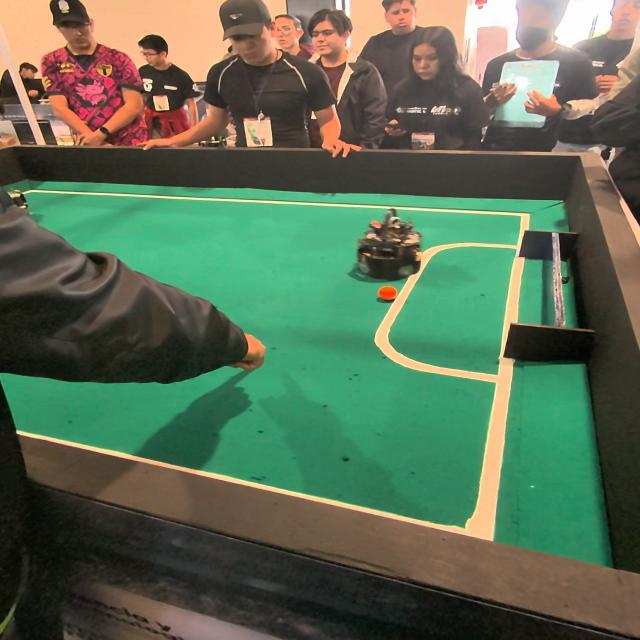Robot: (347, 208, 428, 284)
pelota: (375, 283, 399, 302)
